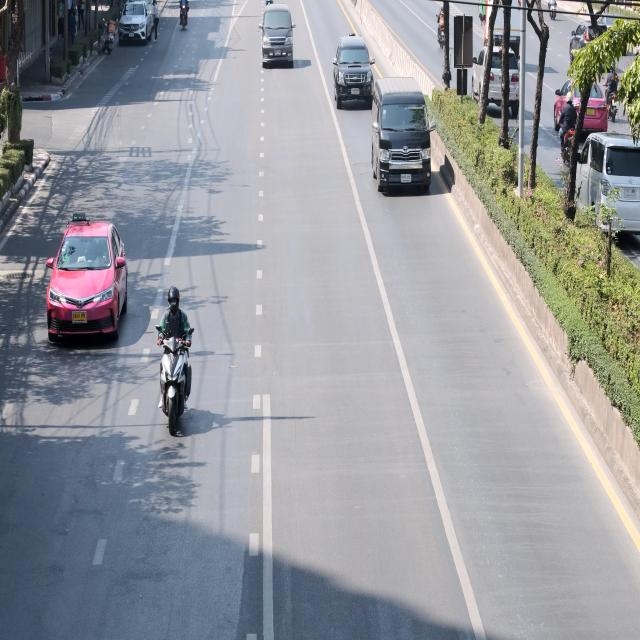cars: (40, 206, 134, 352), (570, 127, 640, 254), (368, 72, 435, 199), (466, 46, 524, 120), (332, 32, 374, 121), (550, 72, 607, 136), (258, 7, 300, 74), (566, 16, 609, 74), (118, 0, 155, 49), (131, 0, 159, 31)
motorcycle: (147, 273, 196, 438), (555, 90, 579, 165), (90, 10, 120, 62), (604, 59, 622, 128), (435, 0, 449, 48), (175, 0, 192, 38)
